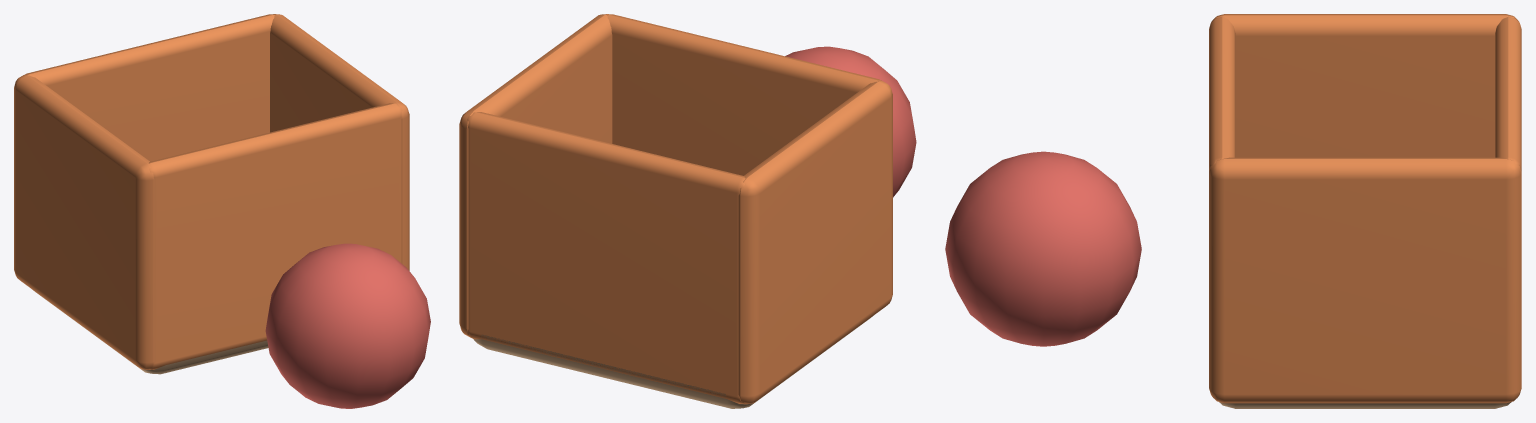
Rendered from ava-position-in-front.glb.
3 views of the same model, side by side, from view 1: azimuth 30°, elevation 25°; view 2: azimuth 150°, elevation 25°; view 3: azimuth 270°, elevation 25° (orthographic). The views are drawn at different scales.
Visible parts, largest first — view 1: box side.006, box side.004, box side.007, location ball, box side.005, box floor.001; view 2: box side.007, box side.004, box side.006, box side.005, location ball, box floor.001; view 3: box side.005, box side.004, location ball, box side.007, box side.006, box floor.001.
Part boxes in pixels (<box>): box side.006: <box>148,103,402,369</box>; box side.004: <box>14,75,154,369</box>; box side.007: <box>24,14,274,161</box>; location ball: <box>265,243,430,408</box>; box side.005: <box>270,14,409,270</box>; box floor.001: <box>33,290,268,374</box>; box side.007: <box>467,112,745,403</box>; box side.004: <box>738,80,892,404</box>; box side.006: <box>607,14,880,175</box>; box side.005: <box>459,14,612,337</box>; location ball: <box>785,46,916,197</box>; box floor.001: <box>473,316,872,408</box>; box side.005: <box>1209,157,1521,403</box>; box side.004: <box>1211,14,1519,157</box>; location ball: <box>945,151,1141,346</box>; box side.007: <box>1495,16,1521,171</box>; box side.006: <box>1209,16,1235,171</box>; box floor.001: <box>1219,402,1511,408</box>.
Bounding box in the file's own units: 0.83 × 0.63 × 1.29.
